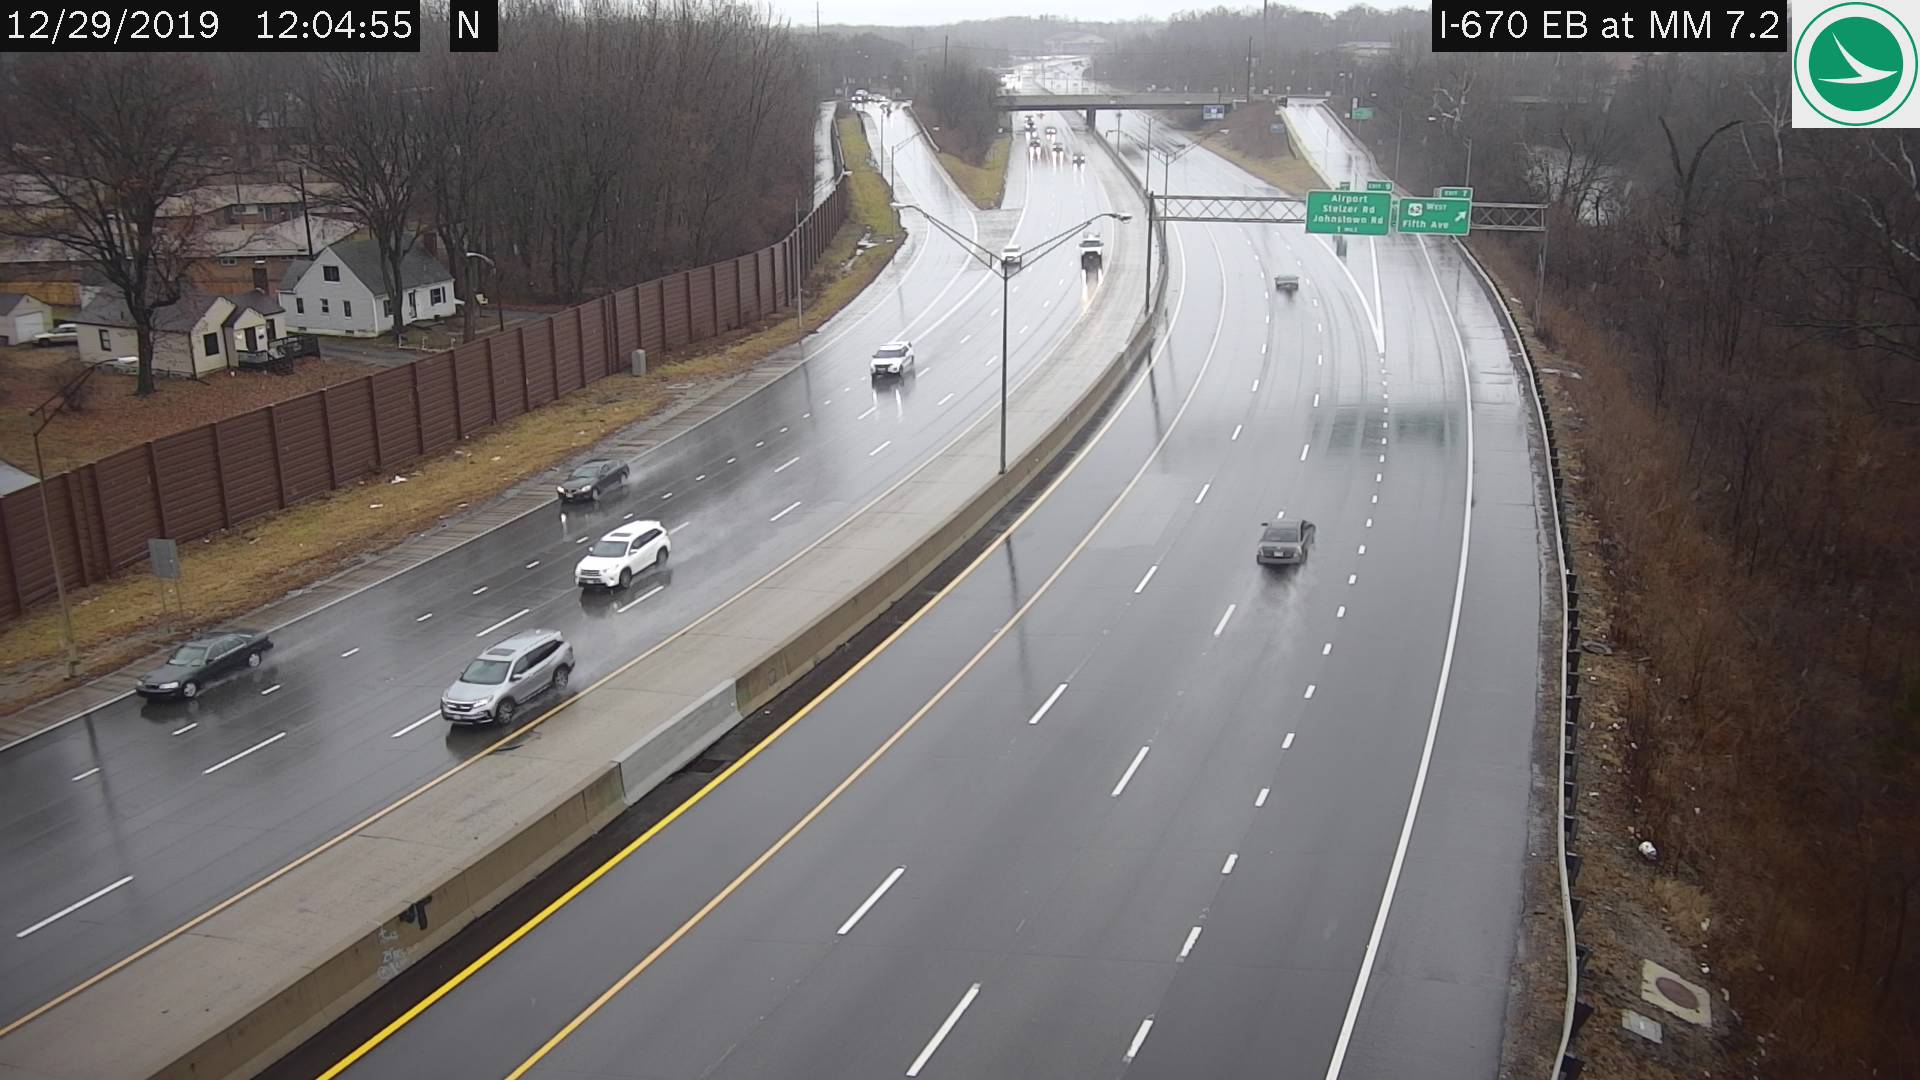car: (438, 624, 574, 728), (138, 624, 270, 708), (570, 520, 670, 596), (558, 456, 630, 500), (1254, 516, 1313, 568), (870, 340, 914, 376), (1077, 232, 1102, 268), (1274, 268, 1298, 287), (998, 244, 1018, 264)
